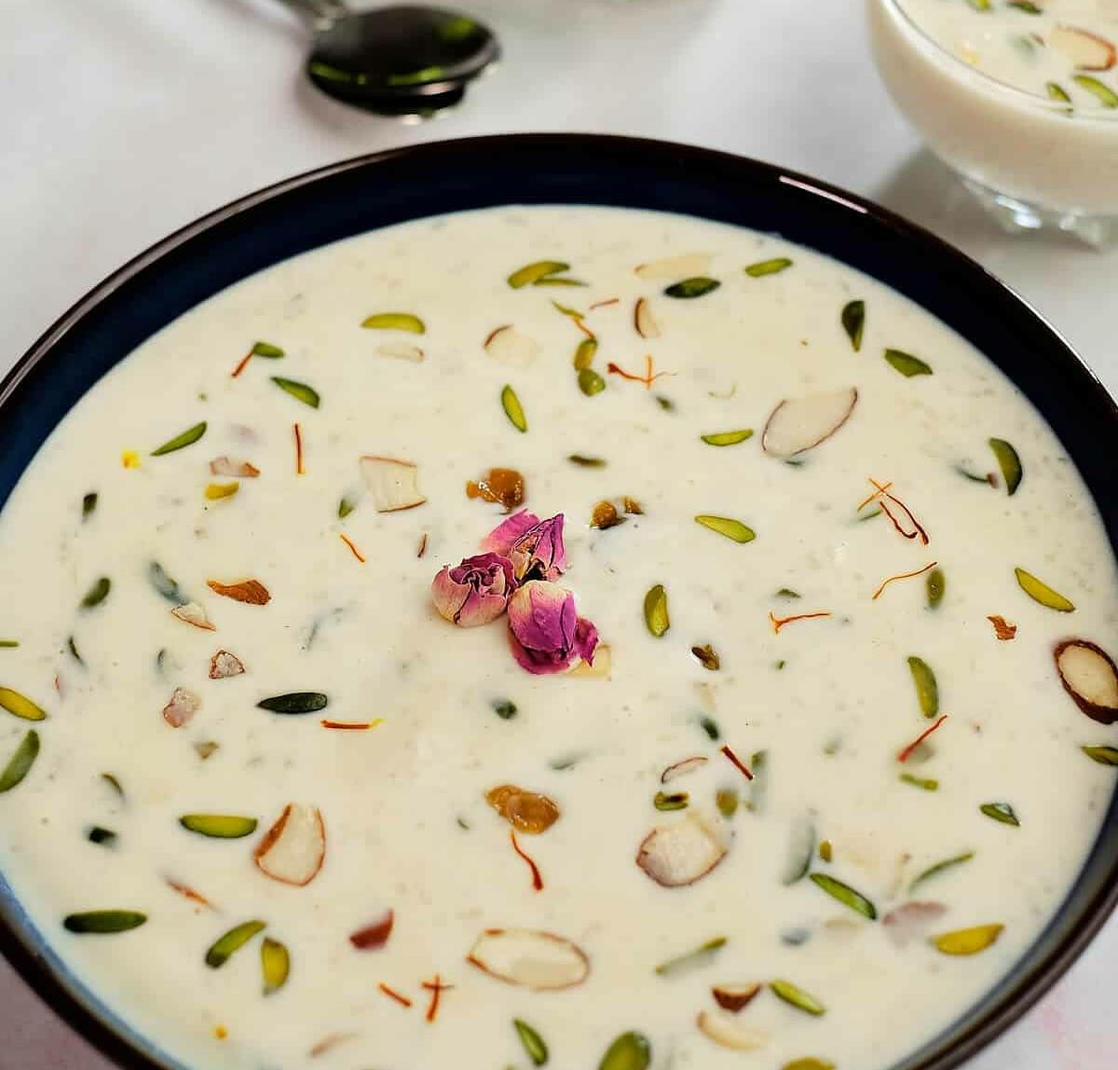Kheer: (0, 200, 1118, 1070), (876, 0, 1118, 199)
